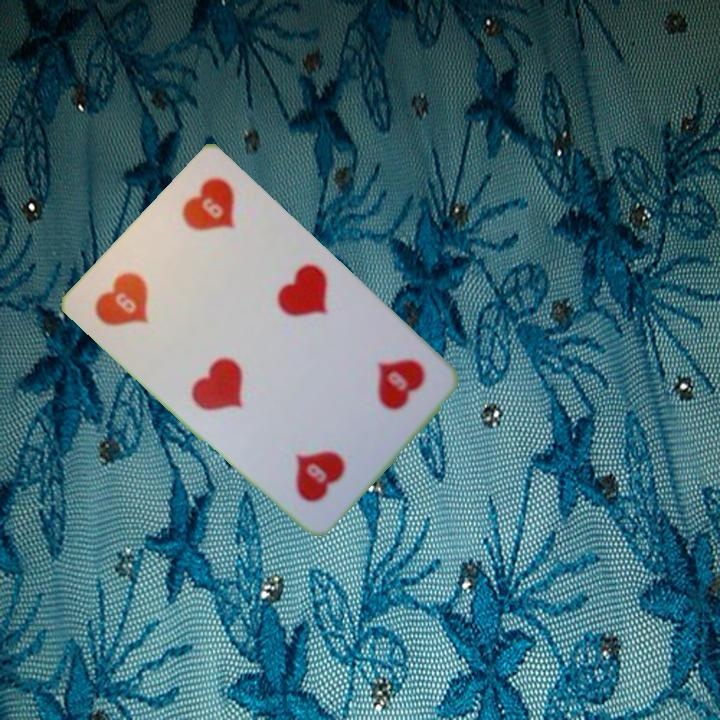h_6.png: (79, 232, 208, 361), (316, 325, 444, 454)
